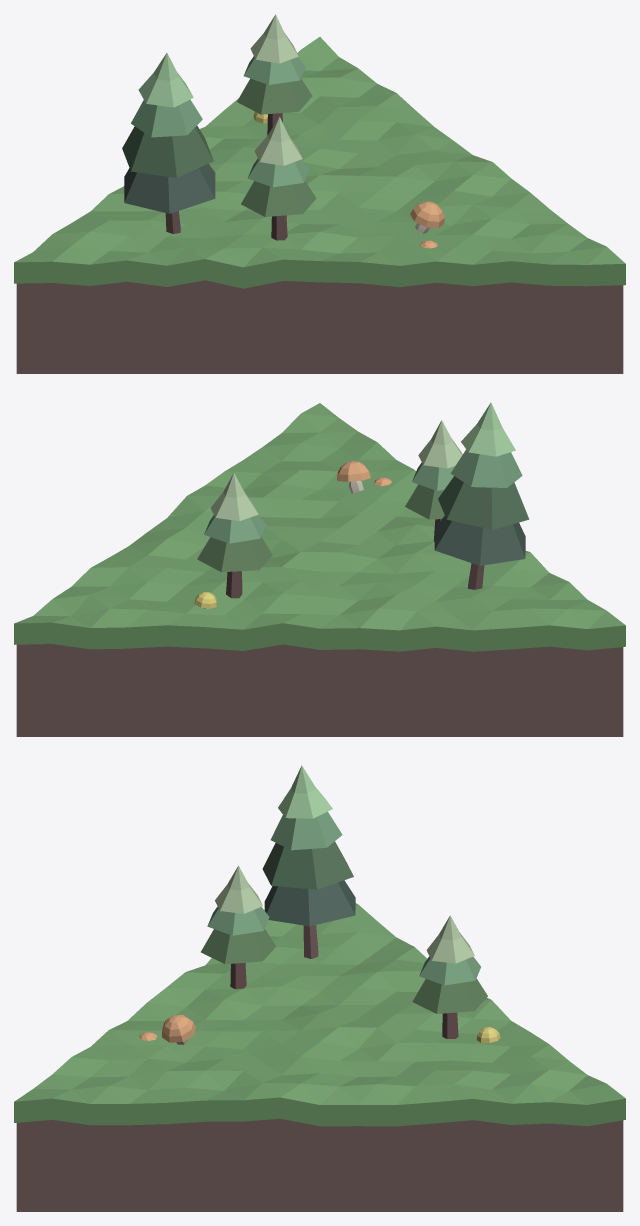
The model's file is TILE_01_02_Forest.fbx.
3 renders of one model, top to bottom at view 1: azimuth 30°, elevation 25°; view 2: azimuth 150°, elevation 25°; view 3: azimuth 270°, elevation 25°, orthographic.
Visible parts, largest first — view 1: TILESURFACE7, TILE, pCylinder8 1, pCylinder7 1, pCylinder7, pCylinder7 2, pCylinder9, pCylinder10 1, pCylinder10 2, pCylinder10, pCylinder8 2, pCylinder8 (+1 smaller); view 2: TILESURFACE7, TILE, pCylinder7 1, pCylinder8 1, pCylinder9, pCylinder7, pCylinder10 1, pCylinder8, pCylinder10, pCylinder10 2, pCylinder7 2, pCylinder8 2 (+1 smaller); view 3: TILESURFACE7, TILE, pCylinder7 1, pCylinder8 1, pCylinder9, pCylinder7, pCylinder7 2, pCylinder10 1, pCylinder10, pCylinder10 2, pCylinder8 2, pCylinder8 (+1 smaller).
Boxes of the visible parts, x1,y1,x2,y2 form: TILESURFACE7: [14, 37, 625, 288]; TILE: [16, 280, 623, 373]; pCylinder8 1: [122, 125, 213, 177]; pCylinder7 1: [124, 164, 215, 213]; pCylinder7: [237, 78, 312, 114]; pCylinder7 2: [241, 181, 316, 216]; pCylinder9: [131, 99, 202, 137]; pCylinder10 1: [138, 53, 193, 107]; pCylinder10 2: [254, 116, 302, 165]; pCylinder10: [250, 14, 298, 63]; pCylinder8 2: [247, 158, 309, 187]; pCylinder8: [243, 56, 305, 84]; TILESURFACE7: [14, 403, 625, 651]; TILE: [16, 644, 623, 736]; pCylinder7 1: [434, 515, 525, 565]; pCylinder8 1: [438, 476, 529, 529]; pCylinder9: [450, 449, 522, 487]; pCylinder7: [197, 537, 272, 572]; pCylinder10 1: [461, 402, 515, 456]; pCylinder8: [204, 515, 265, 543]; pCylinder10: [210, 473, 258, 520]; pCylinder10 2: [418, 420, 462, 468]; pCylinder7 2: [405, 484, 444, 519]; pCylinder8 2: [412, 462, 454, 490]; TILESURFACE7: [14, 903, 625, 1126]; TILE: [16, 1118, 623, 1211]; pCylinder7 1: [264, 880, 355, 926]; pCylinder8 1: [262, 841, 353, 889]; pCylinder9: [270, 811, 342, 850]; pCylinder7: [412, 978, 487, 1013]; pCylinder7 2: [201, 929, 276, 964]; pCylinder10 1: [278, 765, 332, 818]; pCylinder10: [426, 915, 474, 963]; pCylinder10 2: [215, 865, 262, 913]; pCylinder8 2: [207, 906, 269, 935]; pCylinder8: [419, 956, 480, 985].
Size of the model in its own units: 151 by 92.55 by 175.
